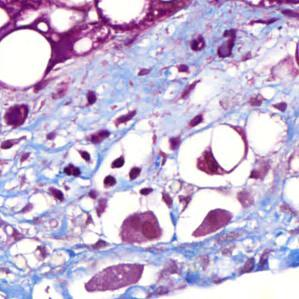steatosis: (0, 28, 52, 90)
